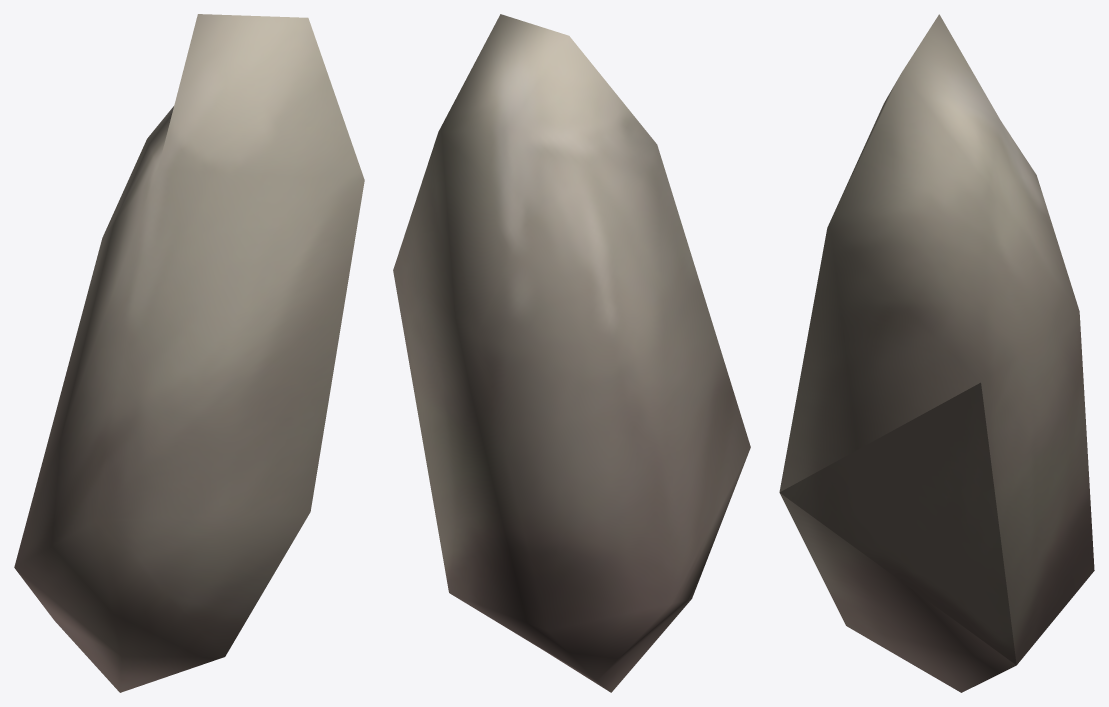
File: rocks_11.glb
3 renders of one model, left to right at view 1: azimuth 30°, elevation 25°; view 2: azimuth 150°, elevation 25°; view 3: azimuth 270°, elevation 25°, orthographic. The views are drawn at different scales.
Parts seen in each view (by area): view 1: SM_Rocks_11_RocksStylized_M_0; view 2: SM_Rocks_11_RocksStylized_M_0; view 3: SM_Rocks_11_RocksStylized_M_0.
Part boxes in pixels (box(x1,y1,x2,y2)): SM_Rocks_11_RocksStylized_M_0: box(14, 14, 364, 692); SM_Rocks_11_RocksStylized_M_0: box(393, 14, 750, 692); SM_Rocks_11_RocksStylized_M_0: box(779, 14, 1094, 692).
Size of the model in its own units: 3.51 by 7.17 by 2.95.
1 material, 1 textured.
